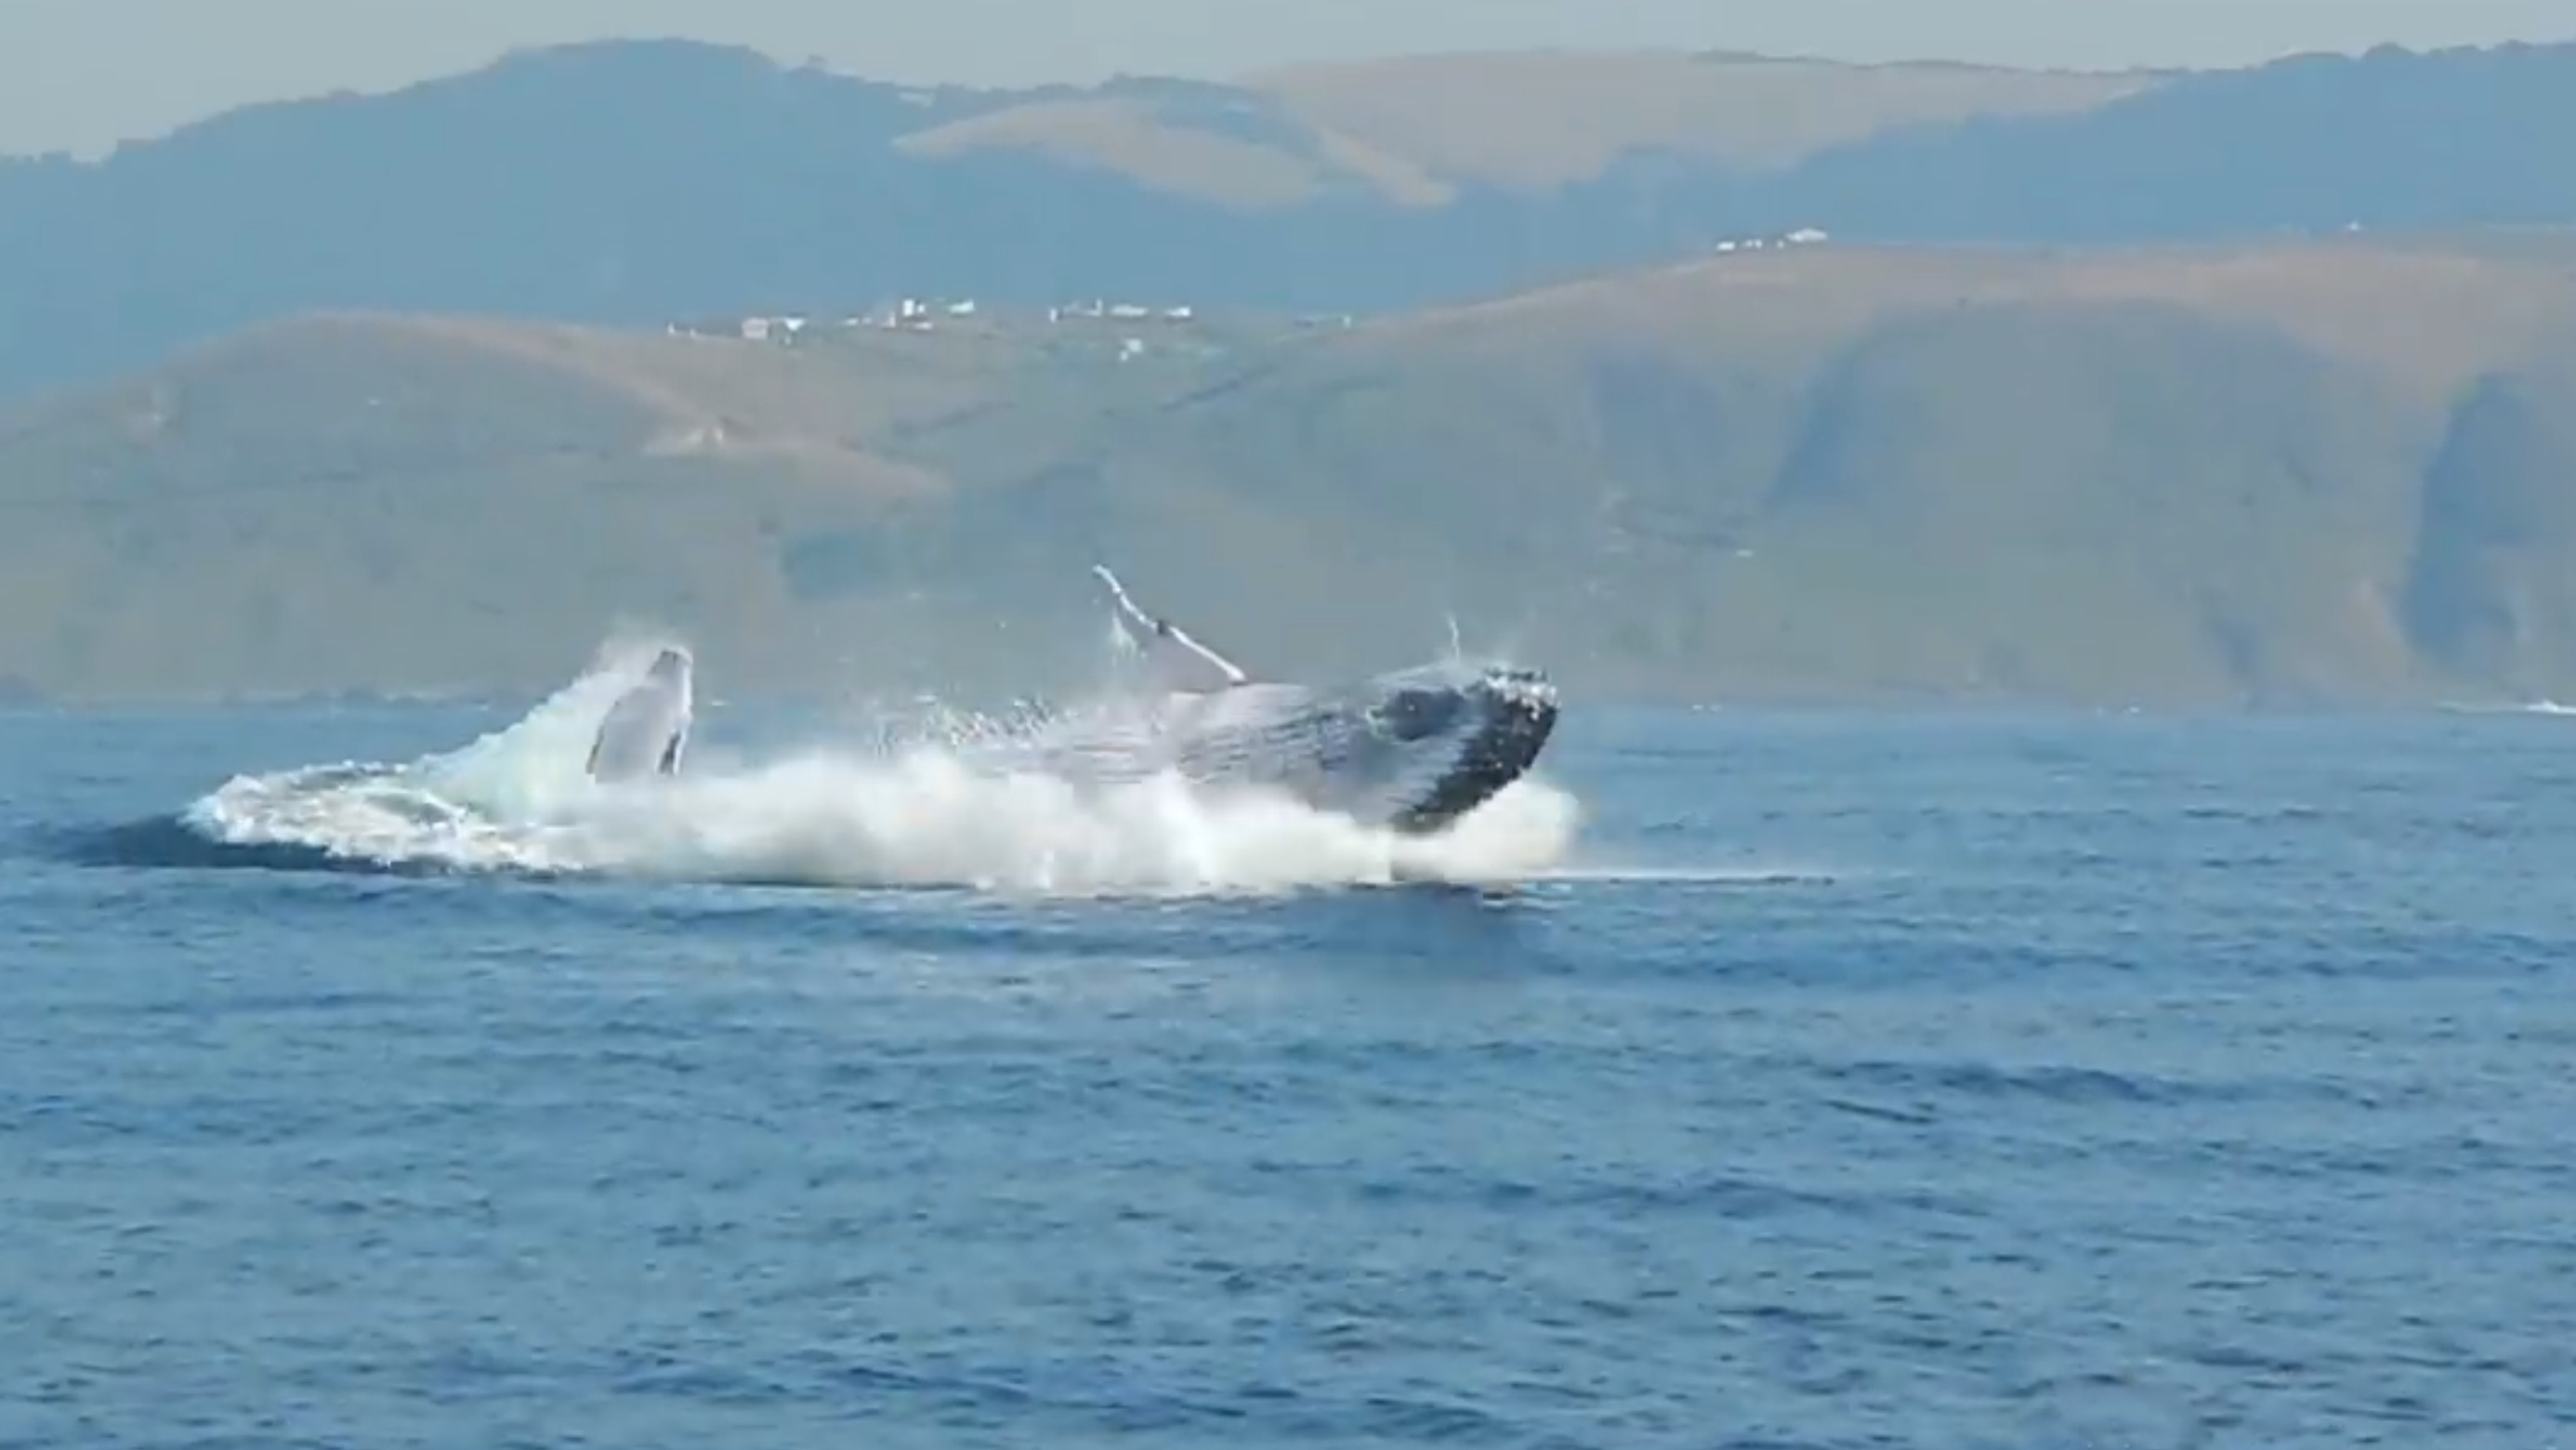humpback: (547, 652, 1566, 860)
